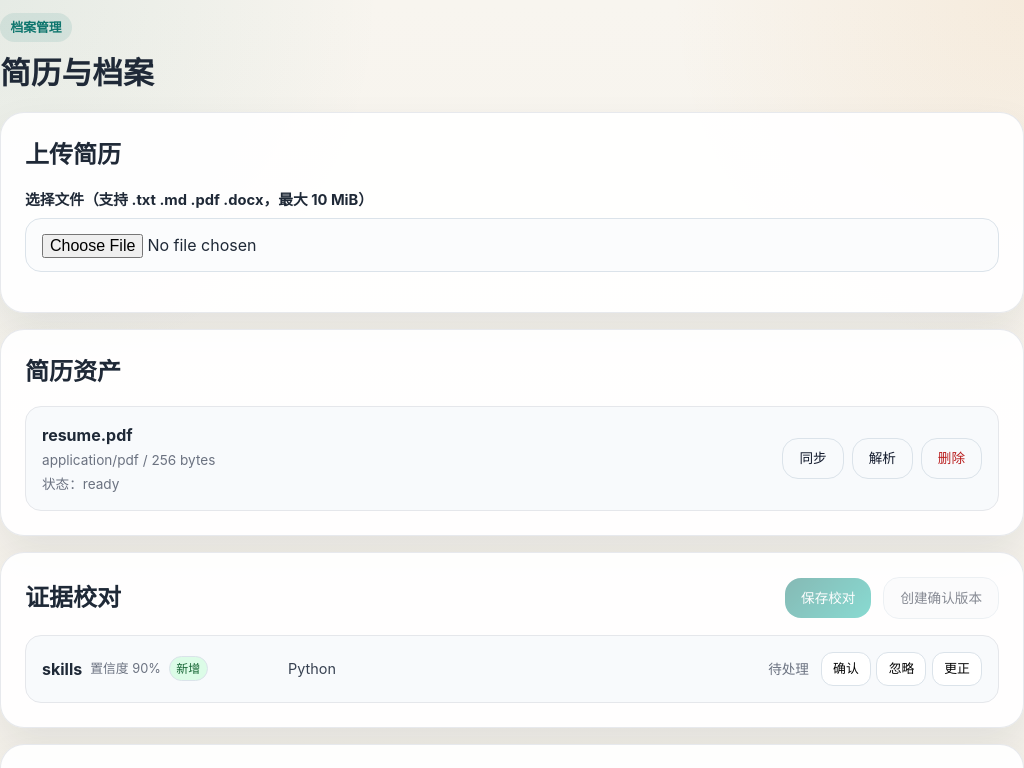
Test case: ProfileWorkspace › reconciles and imports a ready asset before refreshing the selected evidence
The width and height of the screenshot is (1024, 768).
Click the button "同步" at (813, 459), box [782, 438, 844, 480]
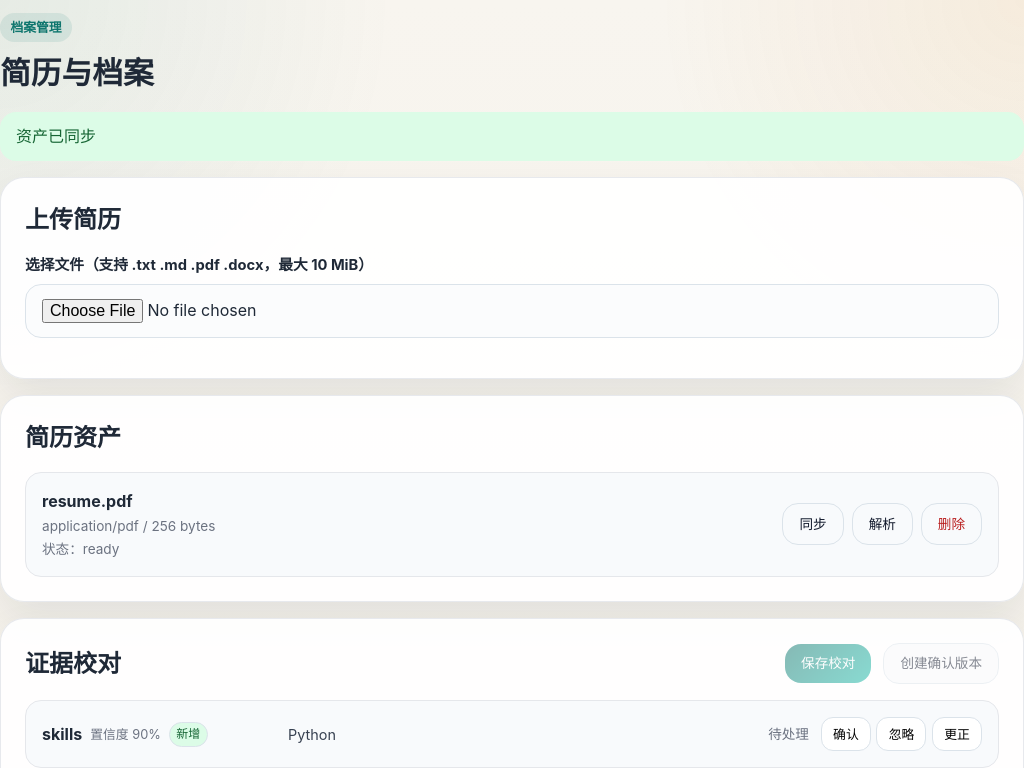
Click the button "解析" at (882, 524), box [852, 504, 913, 545]
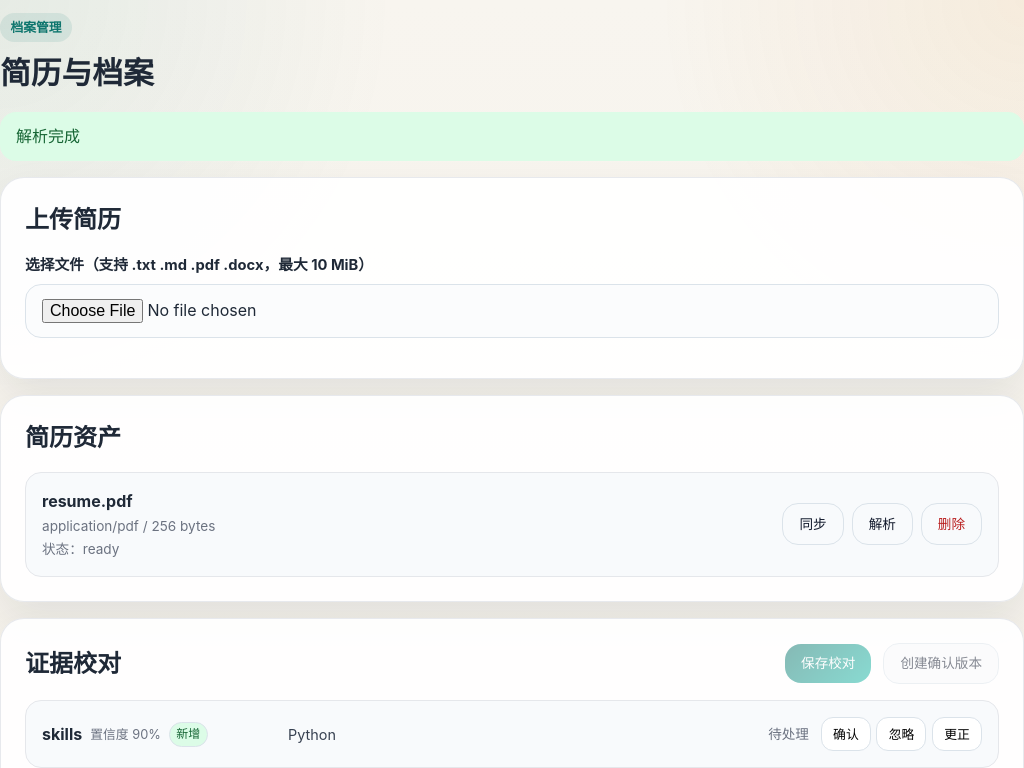
Result: the text "解析完成" is shown at [0, 112, 1023, 161]
